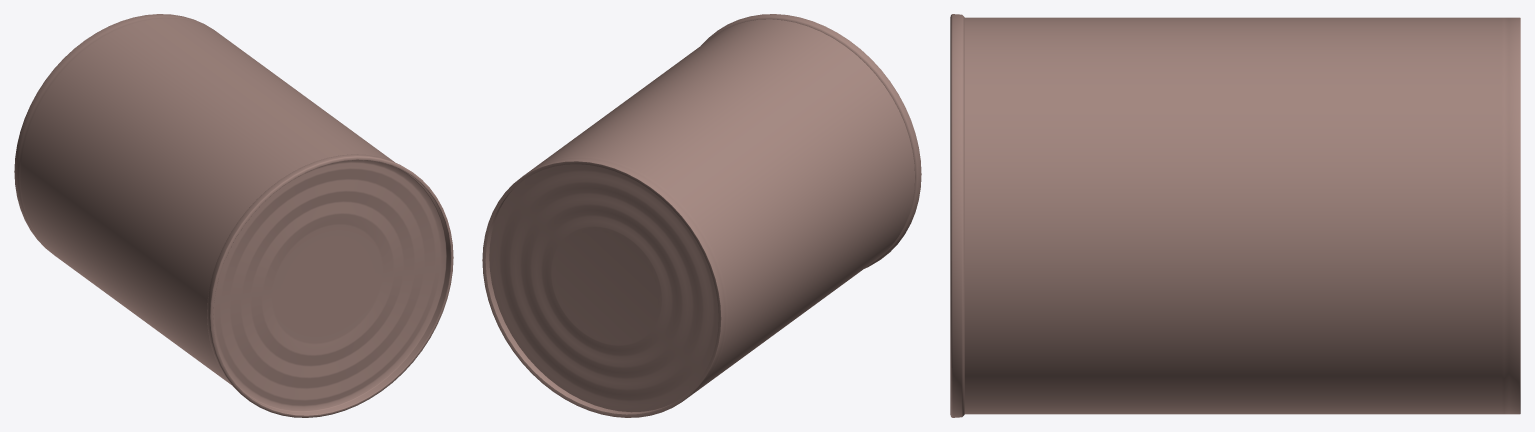
The picture shows the model from 3 angles, left to right: view 1: azimuth 30°, elevation 25°; view 2: azimuth 150°, elevation 25°; view 3: azimuth 270°, elevation 25°; orthographic projection. The views are drawn at different scales.
Bounding box in the file's own units: 0.7083 × 0.7083 × 1.
1 material, 1 textured.
